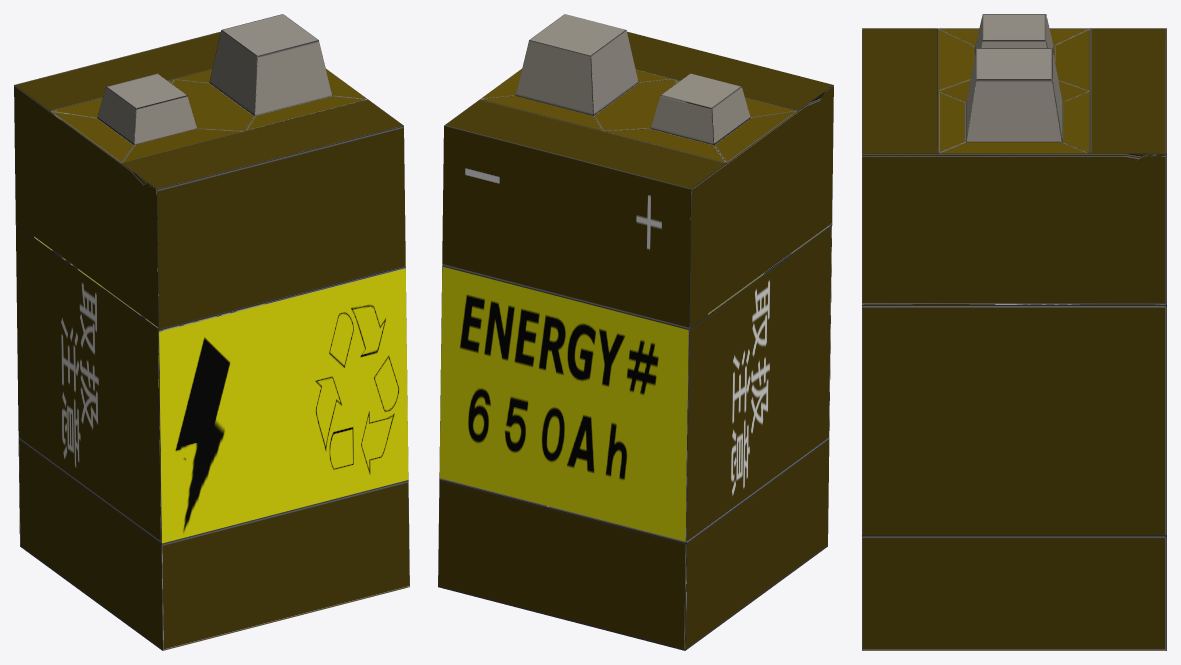
Rendered from Battery_big.fbx.
3 views of the same model, side by side, from view 1: azimuth 30°, elevation 25°; view 2: azimuth 150°, elevation 25°; view 3: azimuth 270°, elevation 25° (orthographic). The views are drawn at different scales.
Visible parts, largest first — view 1: Cube; view 2: Cube; view 3: Cube.
Boxes of the visible parts, x1,y1,x2,y2 form: Cube: [14, 14, 409, 650]; Cube: [438, 14, 833, 650]; Cube: [862, 14, 1166, 650].
Size of the model in its own units: 307 by 603 by 300.
